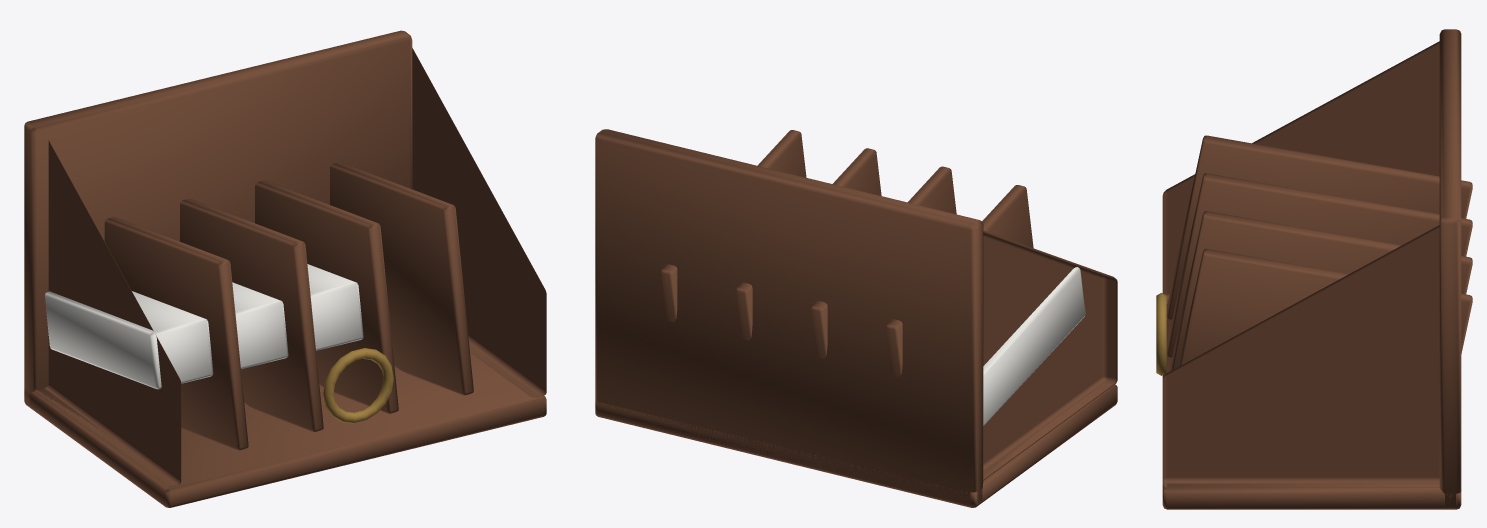
File: asset_090_scorecard_holder.glb
3 views of the same model, side by side, from view 1: azimuth 30°, elevation 25°; view 2: azimuth 150°, elevation 25°; view 3: azimuth 270°, elevation 25° (orthographic). The views are drawn at different scales.
Visible parts, largest first — view 1: MESH_HolderDividers, MESH_HolderBack, MESH_HolderBase, MESH_HolderSideR, MESH_HolderSideL, MESH_HolderScorecards, MESH_HolderCrest; view 2: MESH_HolderBack, MESH_HolderSideL, MESH_HolderDividers, MESH_HolderBase, MESH_HolderScorecards; view 3: MESH_HolderSideR, MESH_HolderDividers, MESH_HolderSideL, MESH_HolderBack, MESH_HolderBase, MESH_HolderCrest.
Part boxes in pixels (x1,y1,x2,y2): MESH_HolderDividers: [104, 162, 473, 450]; MESH_HolderBack: [24, 30, 412, 405]; MESH_HolderBase: [24, 342, 546, 507]; MESH_HolderSideR: [412, 48, 546, 397]; MESH_HolderSideL: [34, 139, 181, 486]; MESH_HolderScorecards: [44, 264, 363, 389]; MESH_HolderCrest: [323, 348, 393, 423]; MESH_HolderBack: [595, 129, 983, 504]; MESH_HolderSideL: [983, 230, 1117, 480]; MESH_HolderDividers: [661, 130, 1033, 377]; MESH_HolderBase: [595, 382, 1117, 507]; MESH_HolderScorecards: [983, 267, 1085, 425]; MESH_HolderSideR: [1162, 215, 1460, 487]; MESH_HolderDividers: [1166, 135, 1472, 371]; MESH_HolderSideL: [1162, 31, 1461, 303]; MESH_HolderBack: [1439, 29, 1461, 506]; MESH_HolderBase: [1162, 304, 1461, 509]; MESH_HolderCrest: [1156, 293, 1166, 375].
Size of the model in its own units: 0.39 by 0.2848 by 0.2649.
